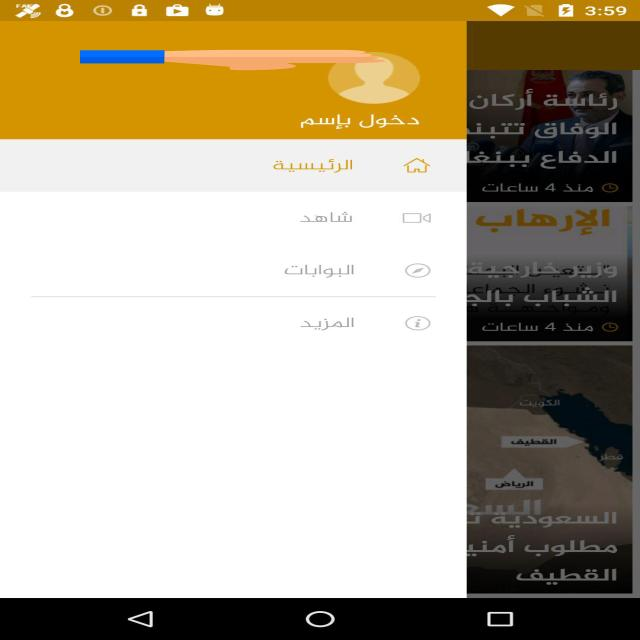obstruction: (80, 49, 385, 71)
